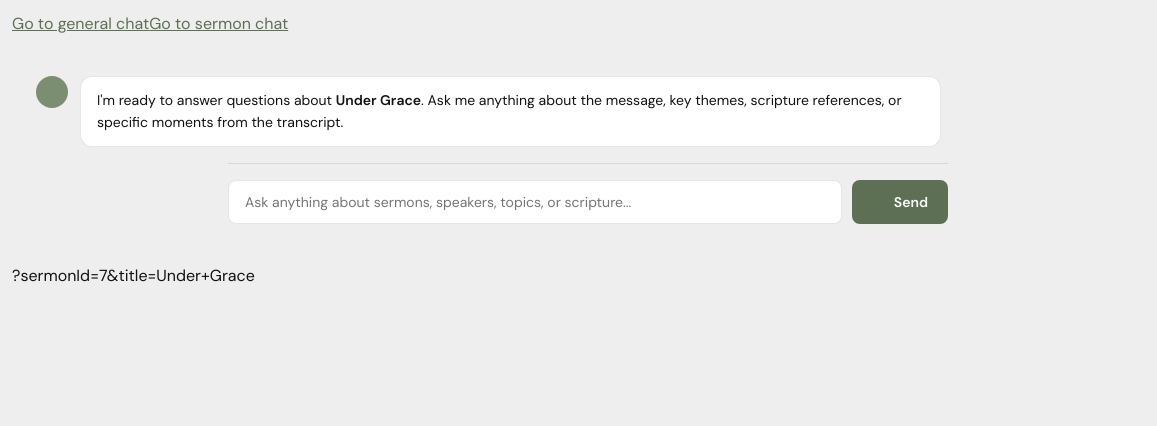
shows "Searching sermons…" while a request is pending
Type "What is grace?" into the field with placeholder "Ask anything about sermons, speakers, topics, or scripture..." at coordinates (535, 202), box [228,180,842,224]
Then press Enter
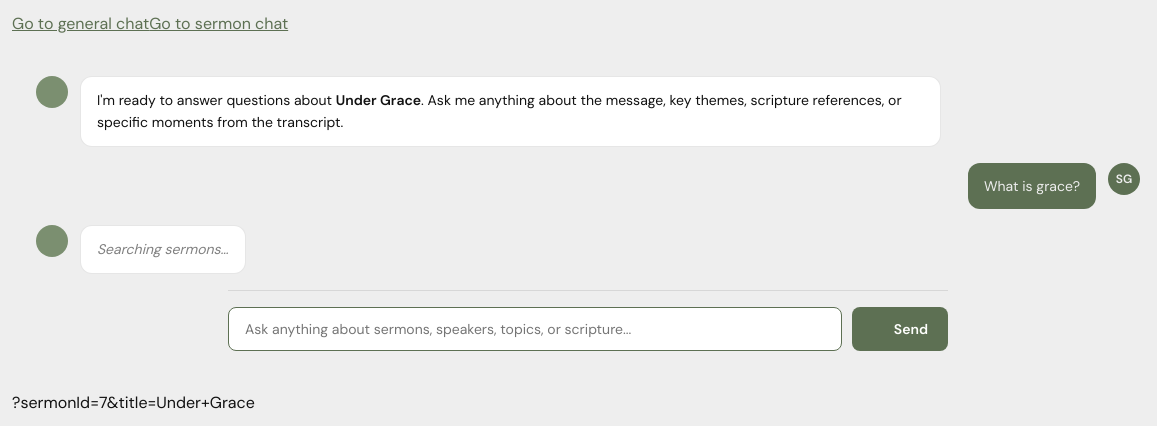
expect the text "Searching sermons…" is shown: met, box [80,225,246,274]
